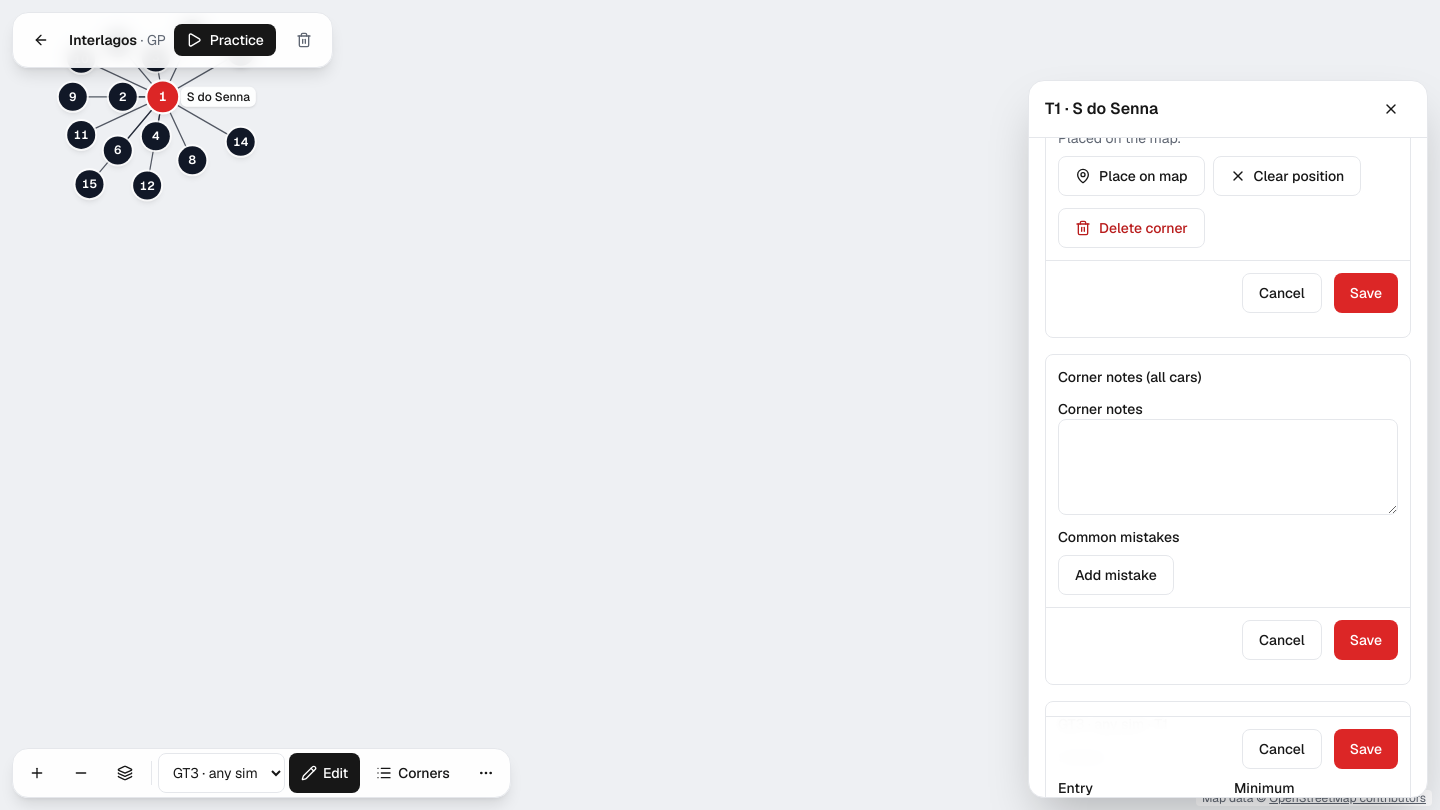
Test: TrackViewPage edit mode › asks before opening Add car over unsaved edits
The width and height of the screenshot is (1440, 810).
(page scrolled)
Type "x" into the text box labelled "Corner notes" at [1228, 467], box 1058,419 -> 1398,515
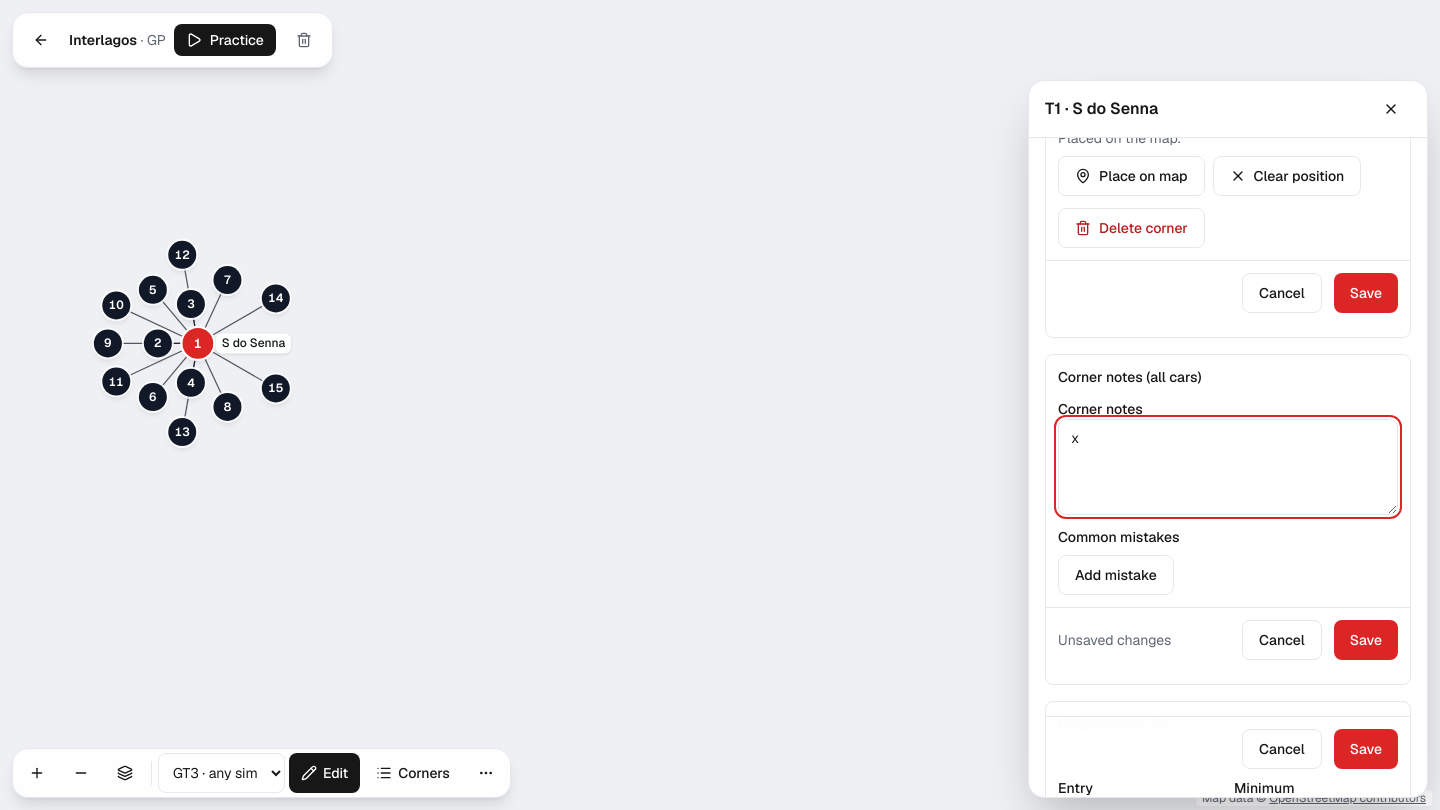
Select "+ Add car…" in the dropdown named "Car" at [222, 773], box 158,753 -> 285,793
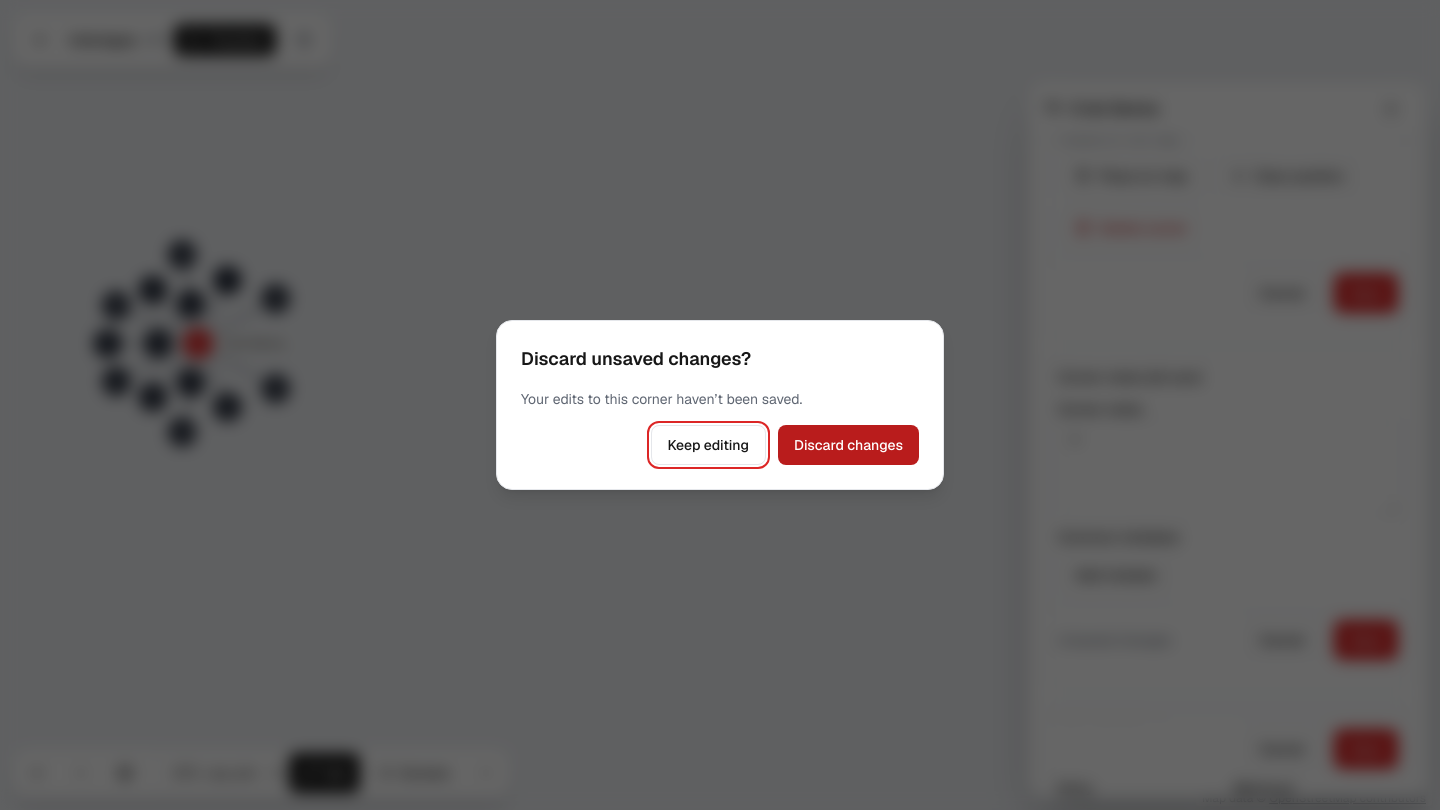
Click the button "Keep editing" at [708, 445], box 651,425 -> 766,465
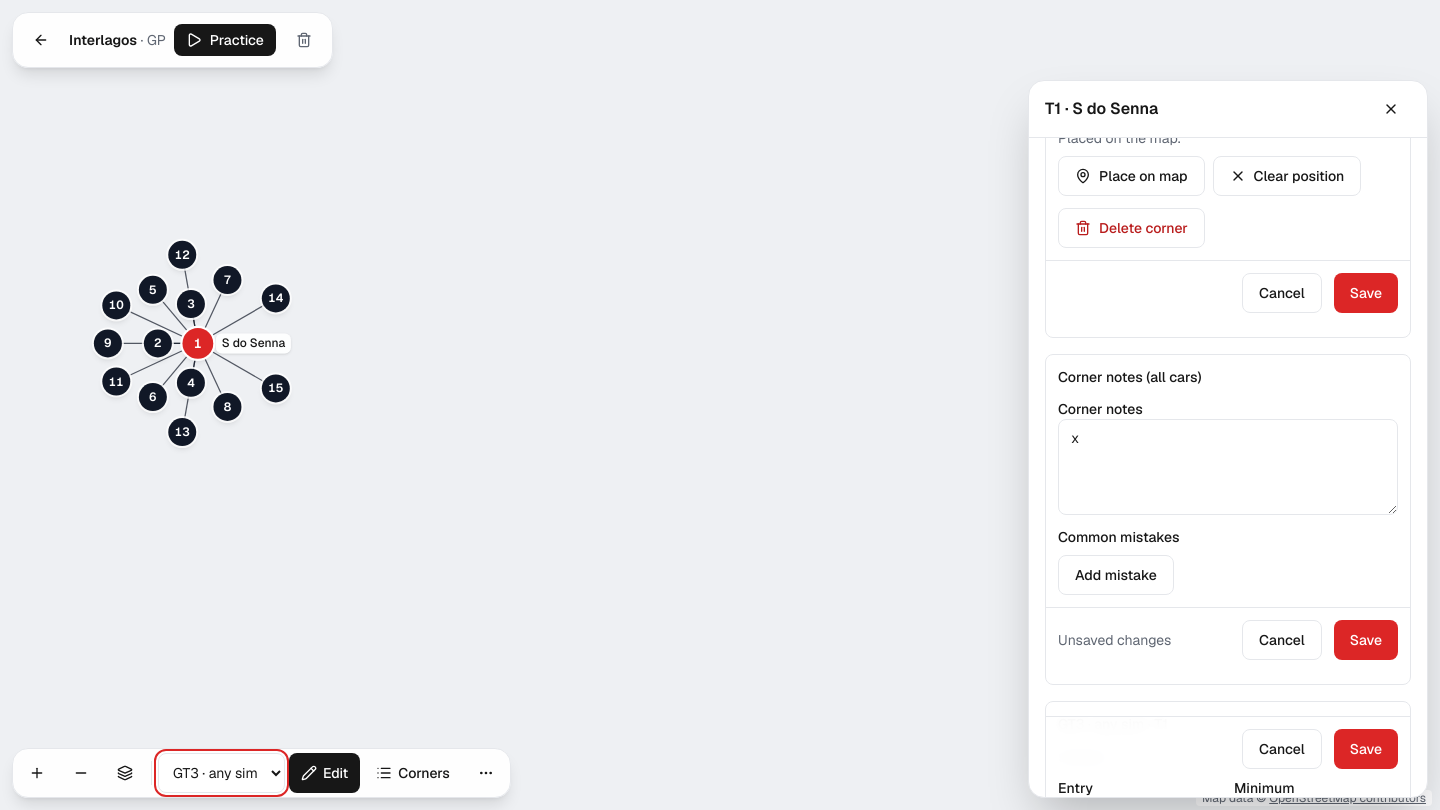
Expected: the dialog is gone
Select "+ Add car…" in the dropdown named "Car" at [222, 773], box 158,753 -> 285,793
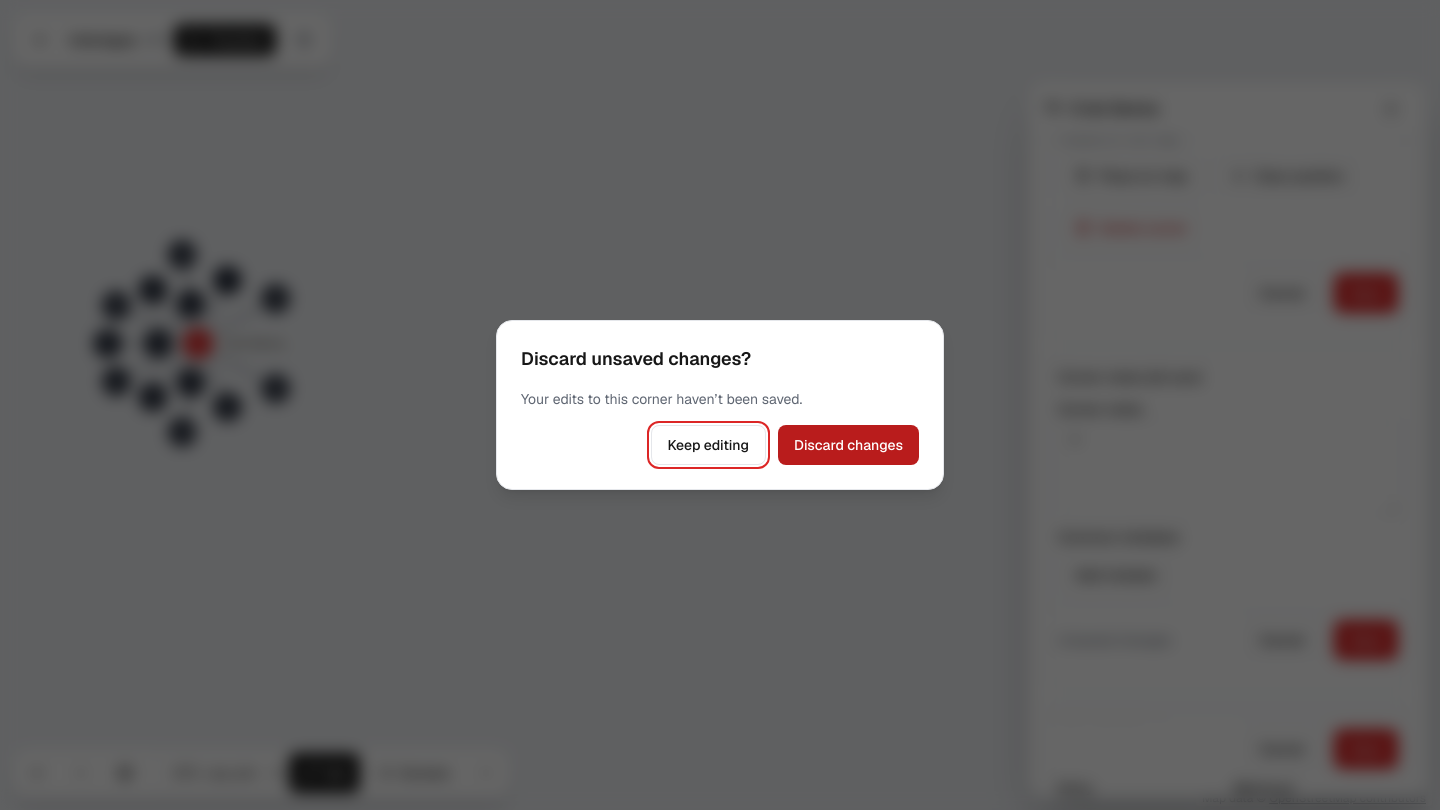
Click the button "Discard changes" at [848, 445], box 778,425 -> 919,465
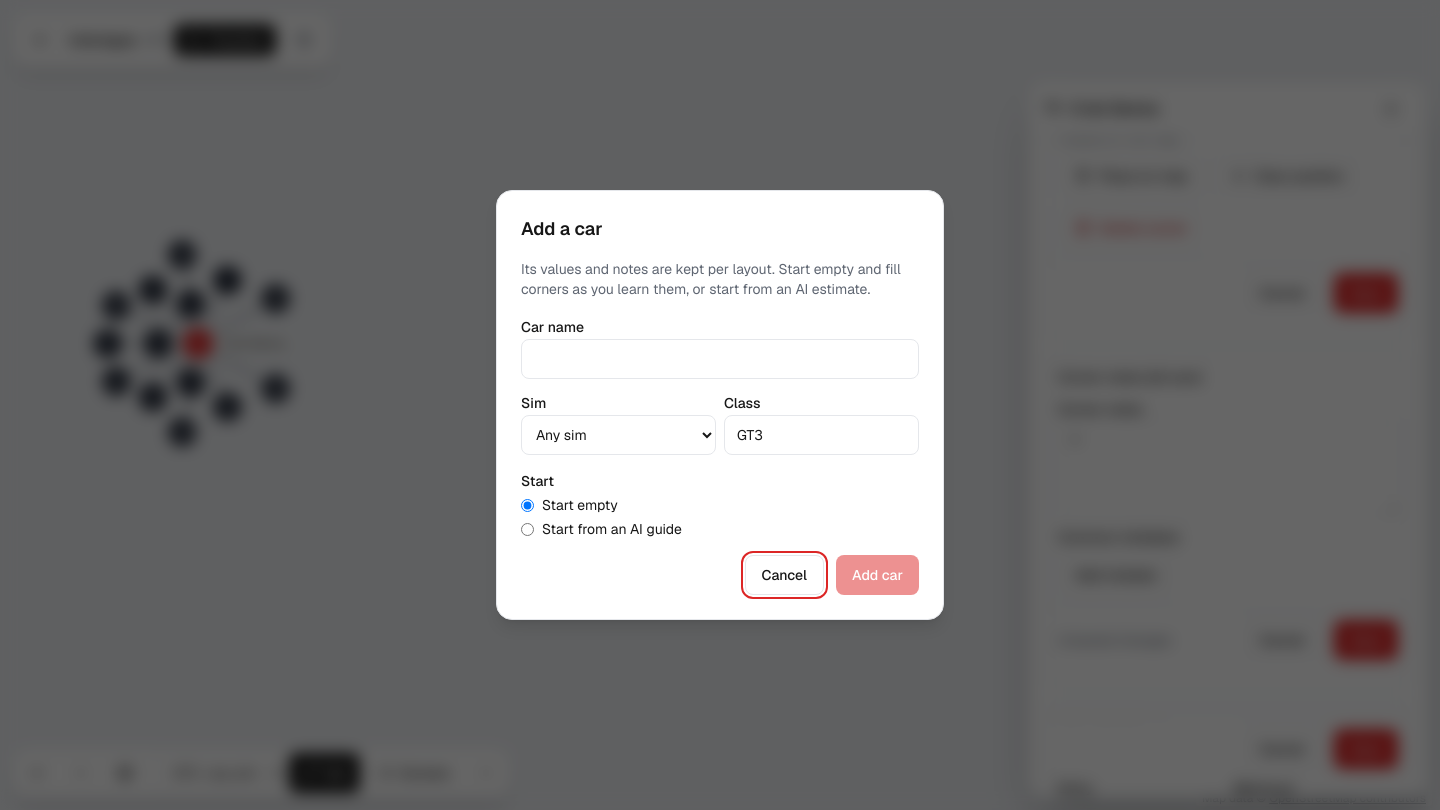
Note: The second dialog is usable: focus is inside it and it takes pointer input.
Click the button "Cancel" at [784, 575], box 744,555 -> 824,595
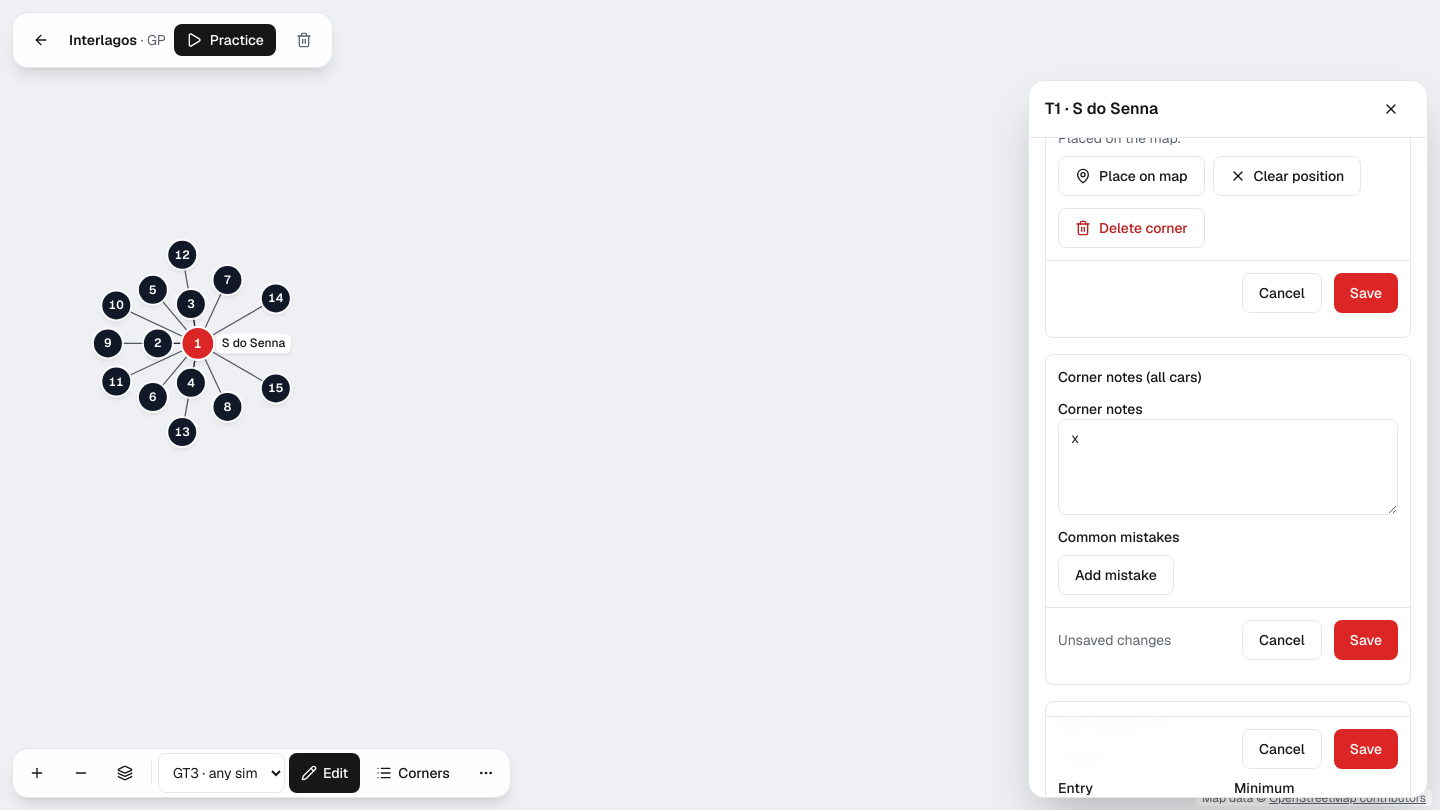
Expected: the dialog is gone
